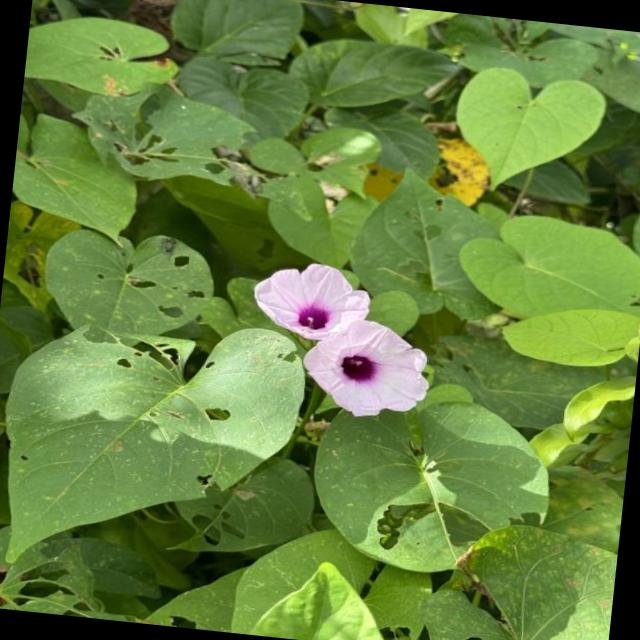ipomoea: (236, 254, 444, 426), (294, 312, 438, 426), (244, 254, 377, 348)
